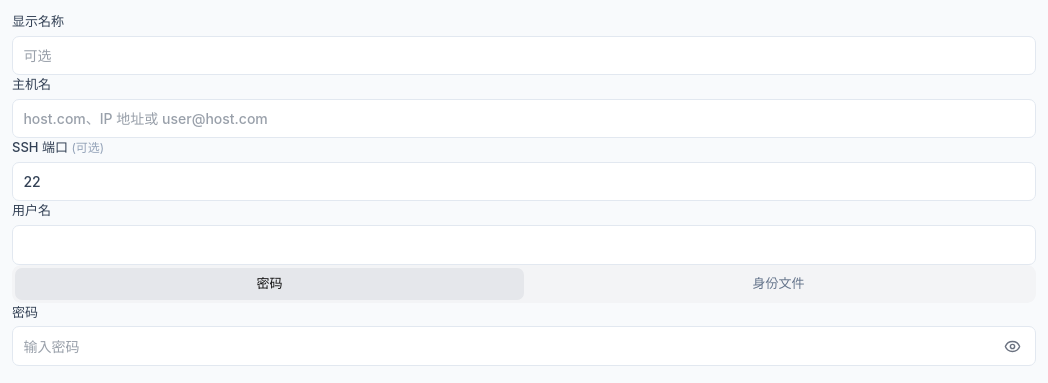
Test: RemoteServerFields host parsing › updates a previously auto-filled username when the host syntax changes
Type "root@keie.com" into the field named "host".
click(524, 118); type("root@keie.com")  # box [12,99,1036,138]
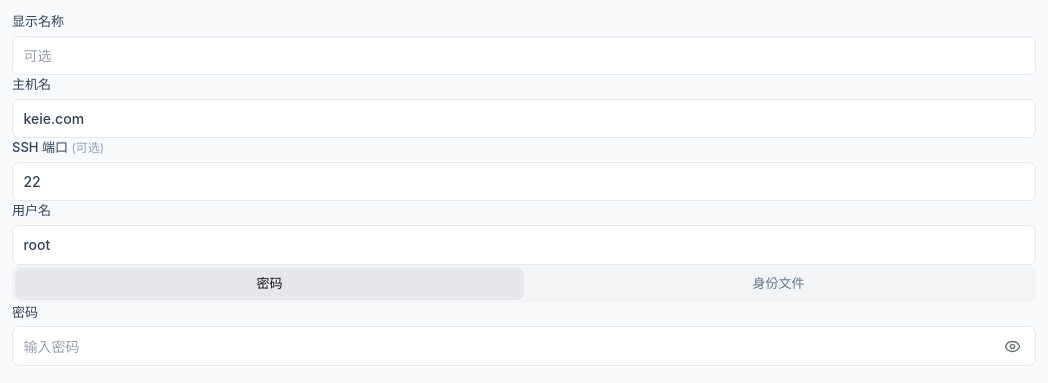
Replace the text in the field named "host" with "deploy@example.com" at [524, 118], box [12,99,1036,138]
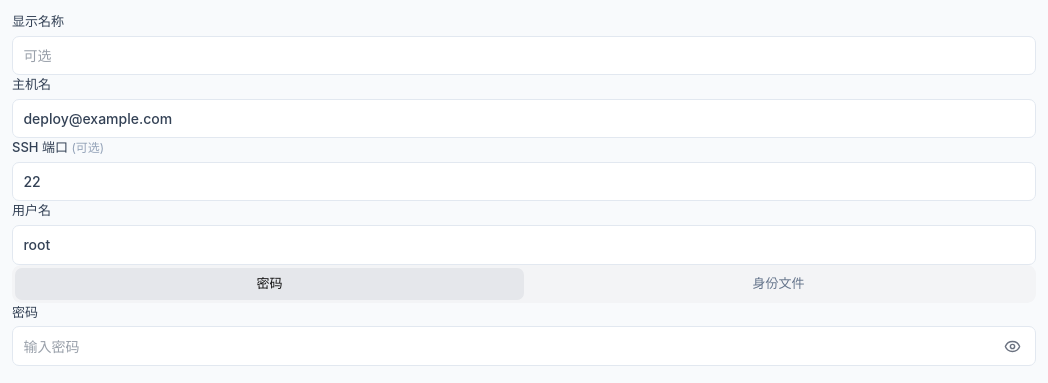
Leave the field named "host", box [12,99,1036,138]
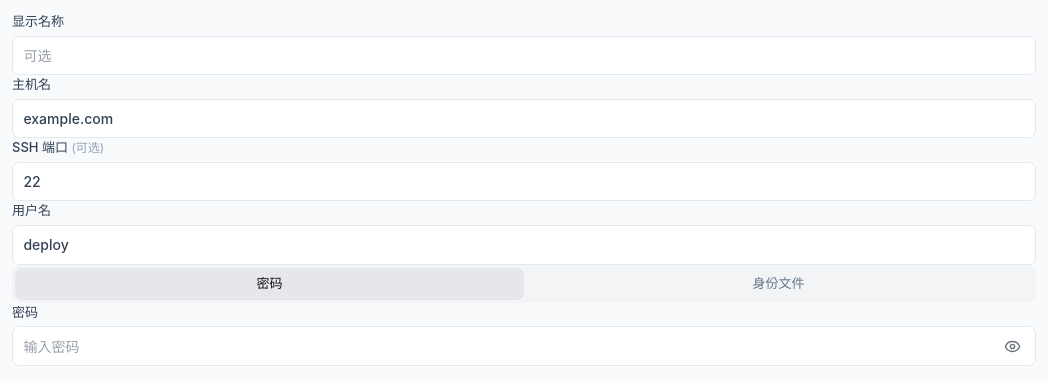
Expected: the field named "host" holds "example.com", [12,99,1036,138]
Expected: the field named "username" holds "deploy", [12,225,1036,264]
